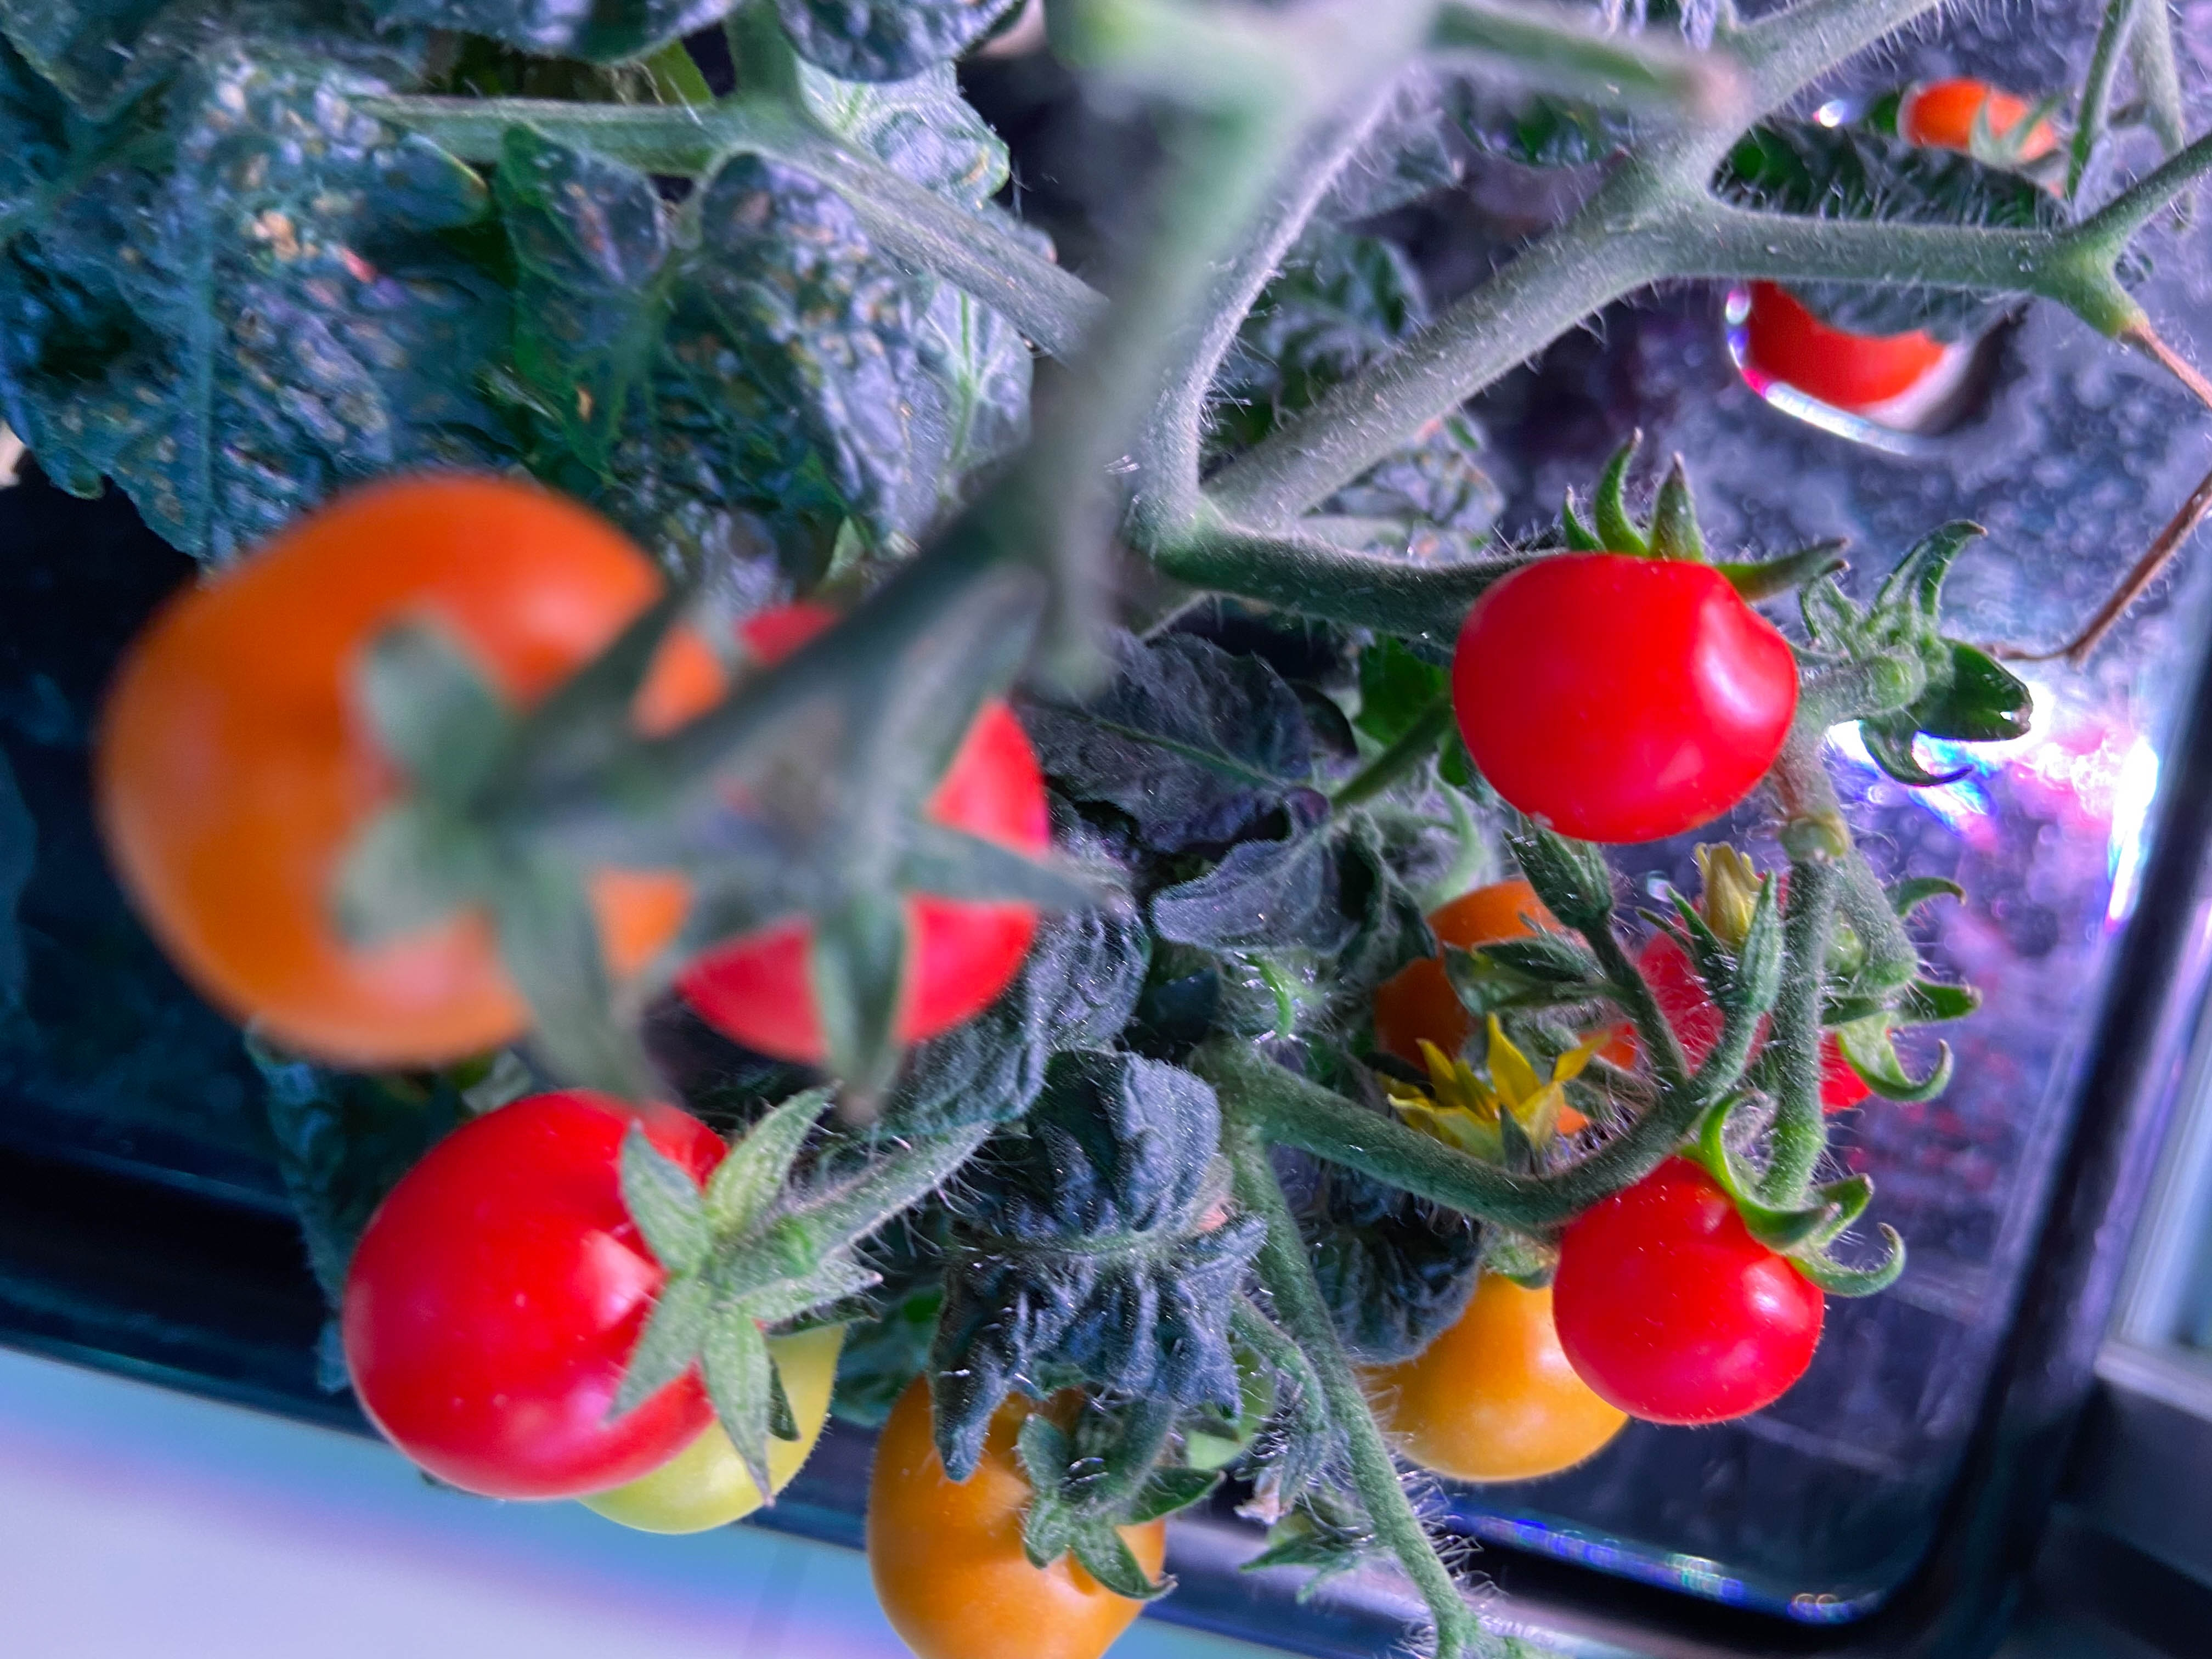red: (94, 458, 721, 1068), (617, 605, 1061, 1073), (347, 1080, 742, 1504), (1451, 547, 1799, 847), (859, 1349, 1167, 1656), (1345, 1180, 1644, 1481), (1583, 866, 1881, 1161), (570, 1267, 867, 1542), (1540, 1143, 1827, 1424), (1378, 875, 1613, 1068), (1735, 268, 1956, 423), (1907, 78, 2047, 164)
